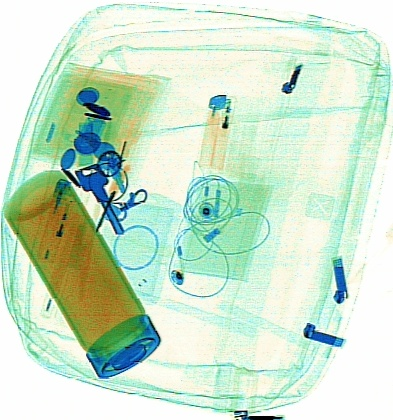lighter: (29, 176, 72, 267), (196, 90, 236, 170)
